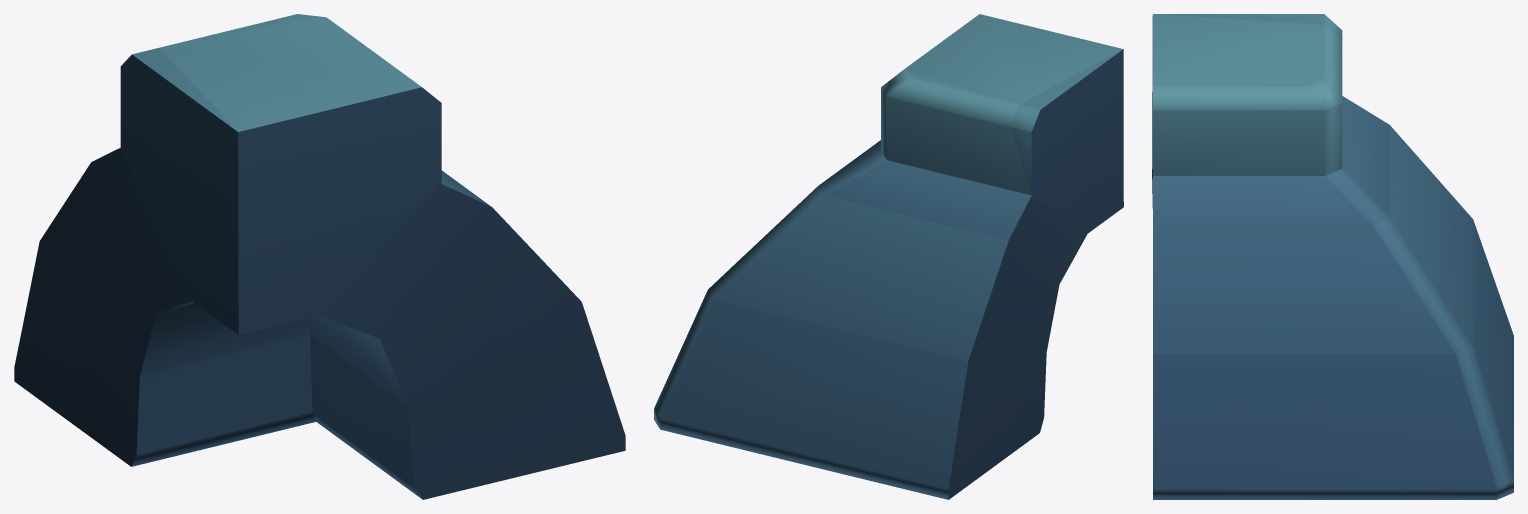
File: wall_corner_conc_top.fbx
3 renders of one model, left to right at view 1: azimuth 30°, elevation 25°; view 2: azimuth 150°, elevation 25°; view 3: azimuth 270°, elevation 25°, orthographic. The views are drawn at different scales.
Visible parts, largest first — view 1: wall_corner_conc_top; view 2: wall_corner_conc_top; view 3: wall_corner_conc_top.
Part boxes in pixels (<box>): wall_corner_conc_top: <box>14,14,625,499</box>; wall_corner_conc_top: <box>654,14,1123,499</box>; wall_corner_conc_top: <box>1152,14,1513,499</box>.
Size of the model in its own units: 200 by 204 by 200.
